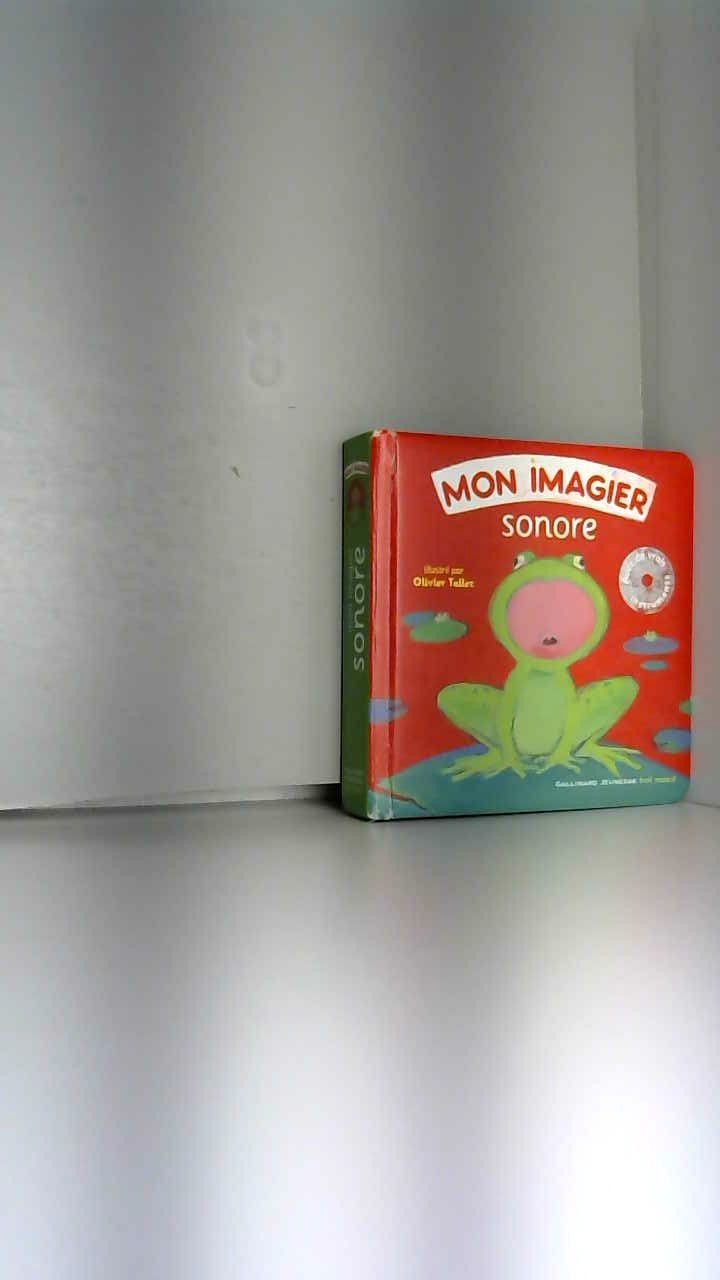book: (310, 400, 719, 844)
